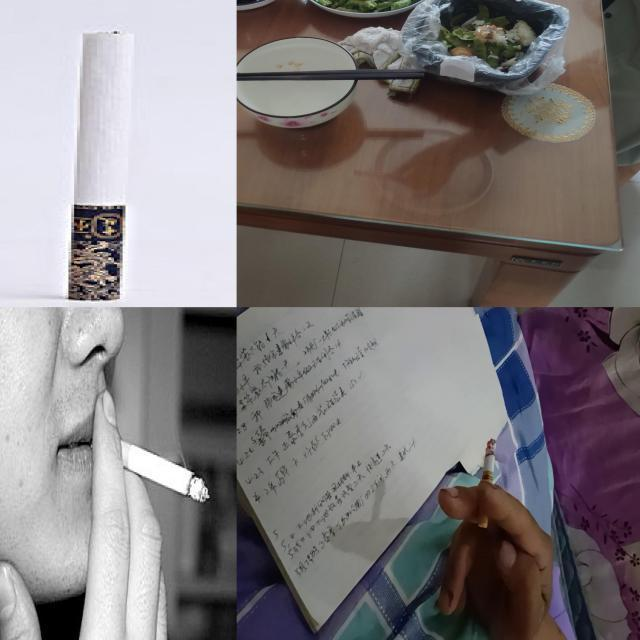cigarette: (68, 28, 122, 299), (92, 432, 210, 504), (476, 438, 496, 528)
